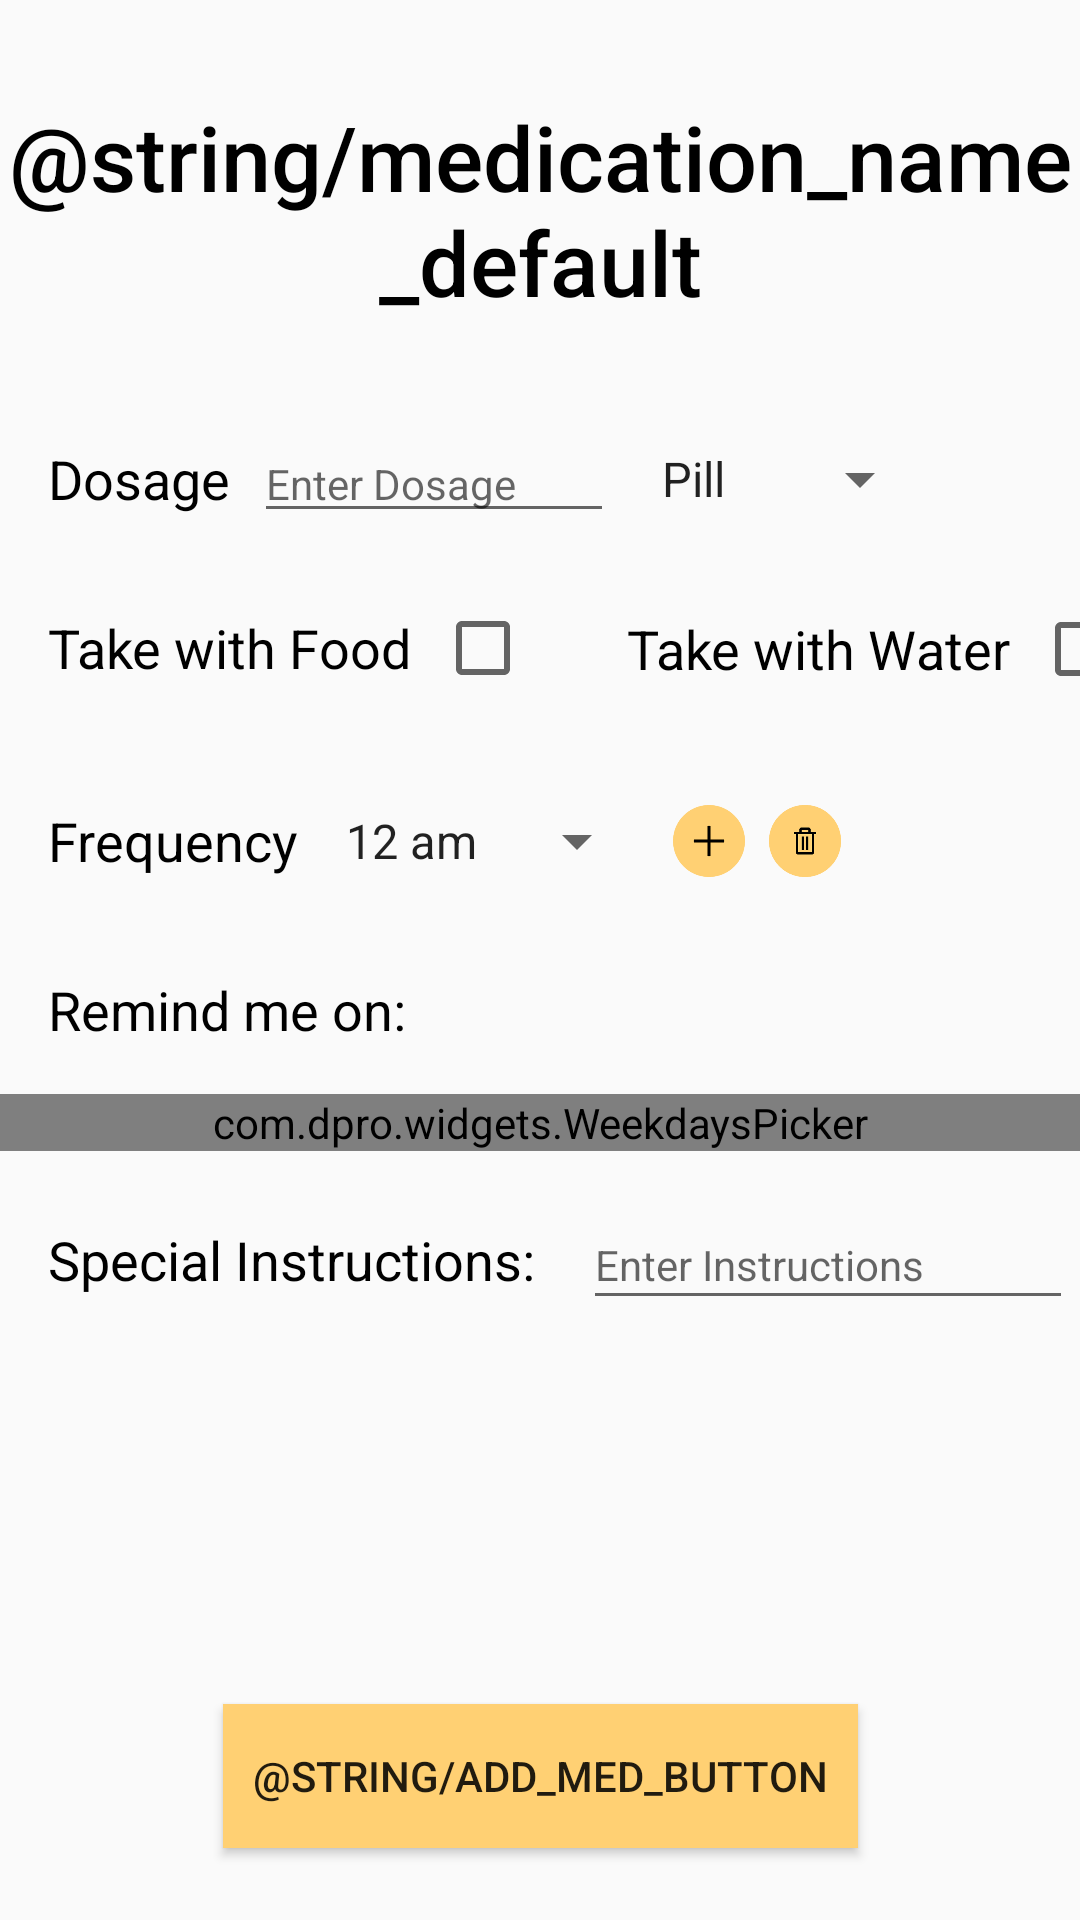

Point at icon controls on the screen. Image size 1080*1920, points as [x,y].
add: [709,841]
trash: [805,841]
